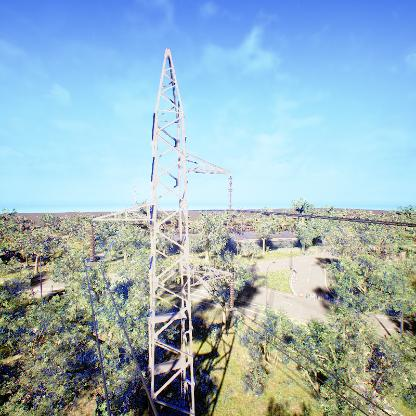tower: (84, 47, 237, 416)
